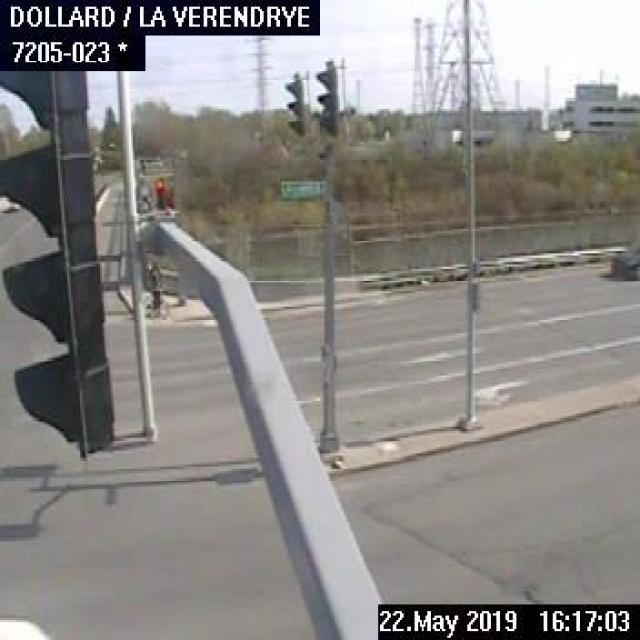pedestrian: (147, 262, 160, 318)
vehicle: (607, 242, 638, 280), (0, 198, 22, 213)
